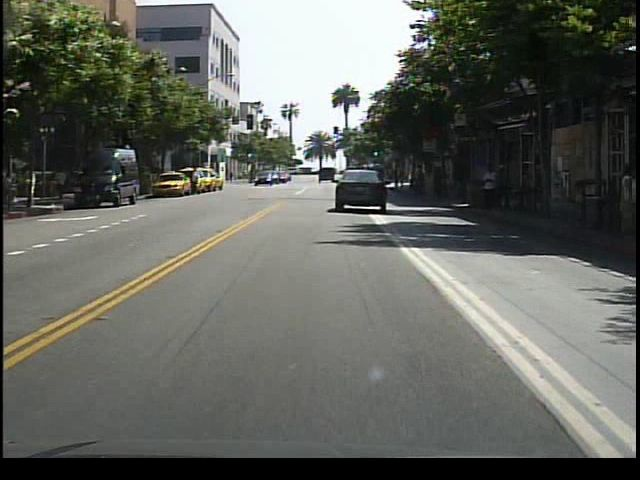person: (477, 161, 504, 218), (187, 162, 203, 198)
